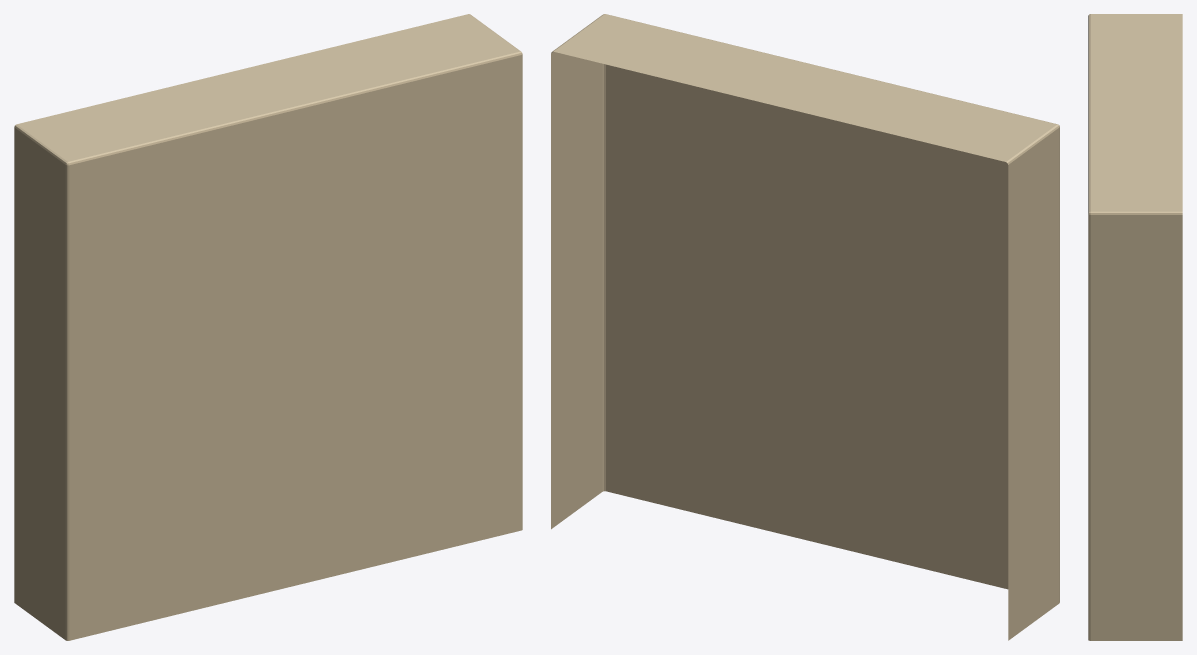
The model's file is WallLimestone.fbx.
The picture shows the model from 3 angles, left to right: view 1: azimuth 30°, elevation 25°; view 2: azimuth 150°, elevation 25°; view 3: azimuth 270°, elevation 25°; orthographic projection. The views are drawn at different scales.
Parts seen in each view (by area): view 1: WallLimestone; view 2: WallLimestone; view 3: WallLimestone.
Boxes of the visible parts, x1,y1,x2,y2 form: WallLimestone: (14,14,522,640); WallLimestone: (551,14,1059,640); WallLimestone: (1088,14,1182,640).
Size of what is drawn, in the model's own units: 1 by 1 by 0.2.
